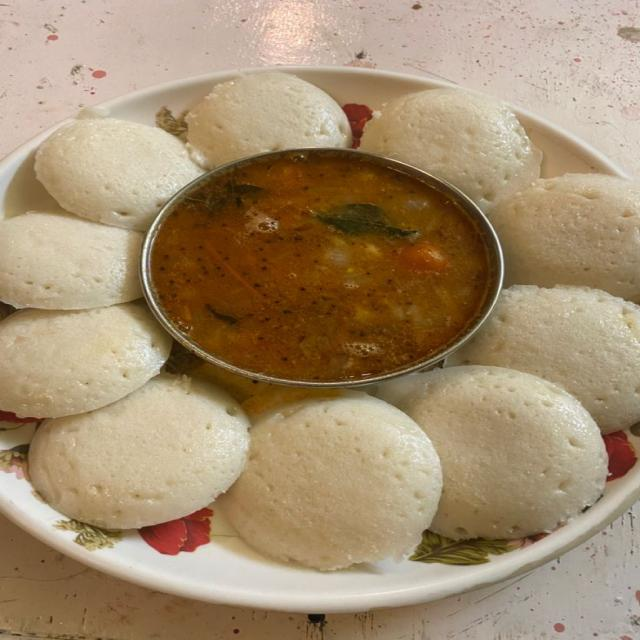idly: (252, 394, 440, 570), (457, 364, 607, 536), (371, 78, 540, 202), (31, 435, 208, 537), (0, 312, 167, 418), (488, 184, 640, 300), (26, 122, 179, 212), (195, 66, 344, 152), (0, 216, 130, 312)
sambar: (166, 153, 491, 375)
